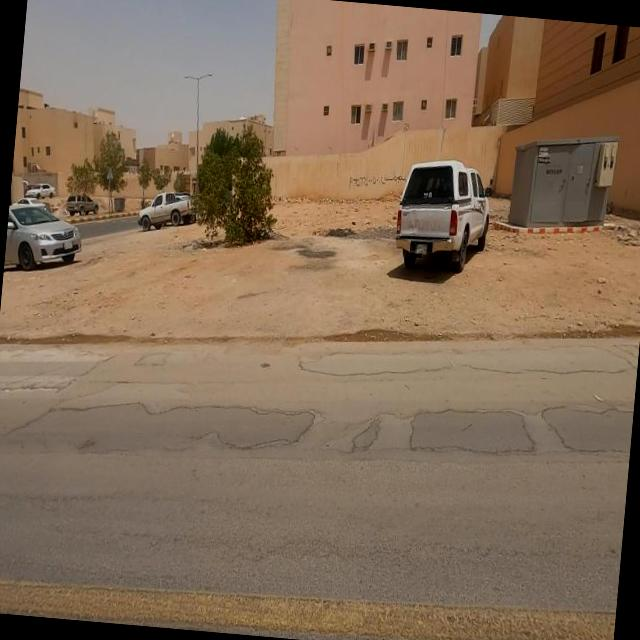debris: (300, 130, 450, 228)
